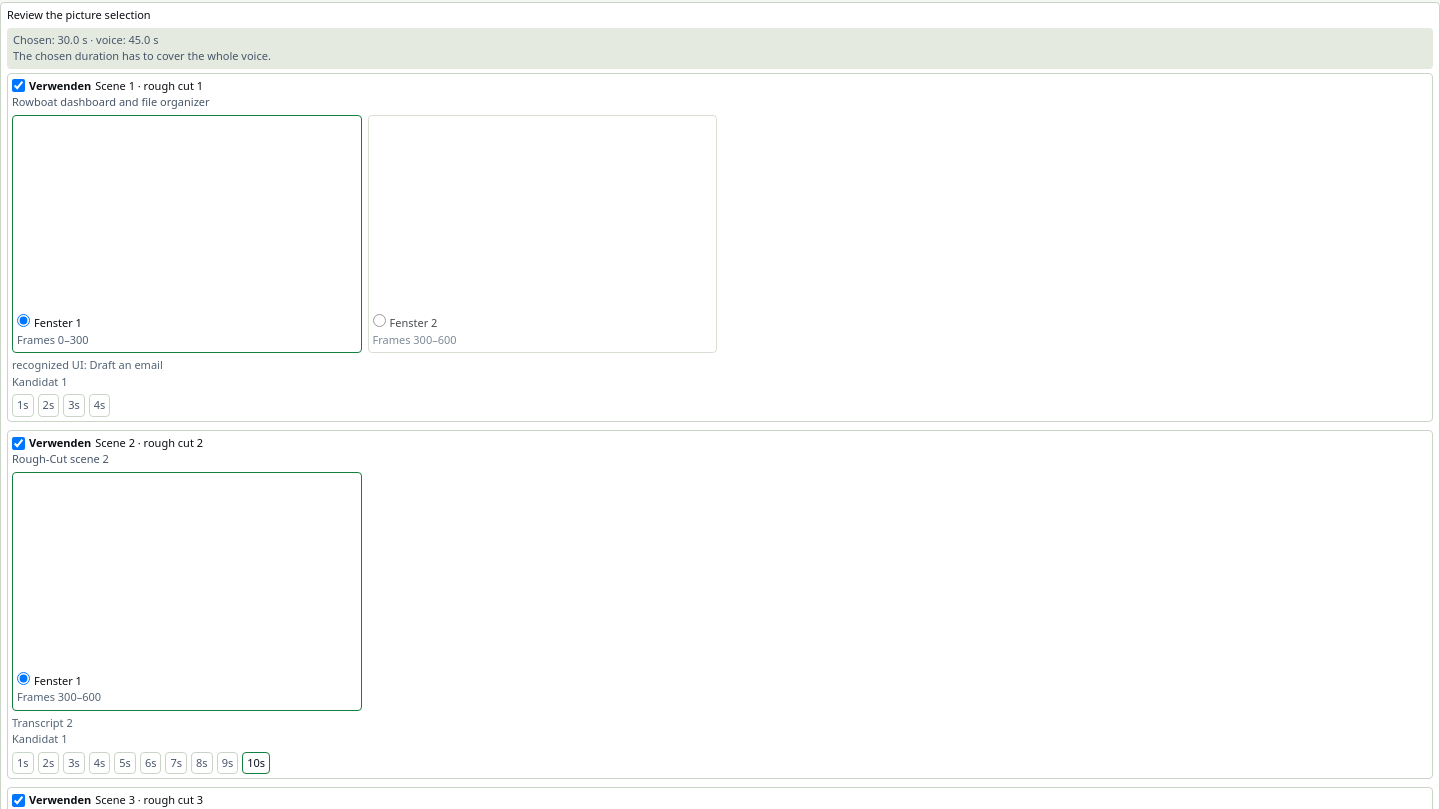
VisualSelectionCard › bounds duration buttons by the selected candidate capacity
The width and height of the screenshot is (1440, 809).
Expected: the button named "Scene 1: 4 seconds" is shown, [89,394,110,417]
Step 1. Click the radio button with test id "visual-scene-candidate-scene-0-candidate-1" → (379, 321), box [372,314,386,328]
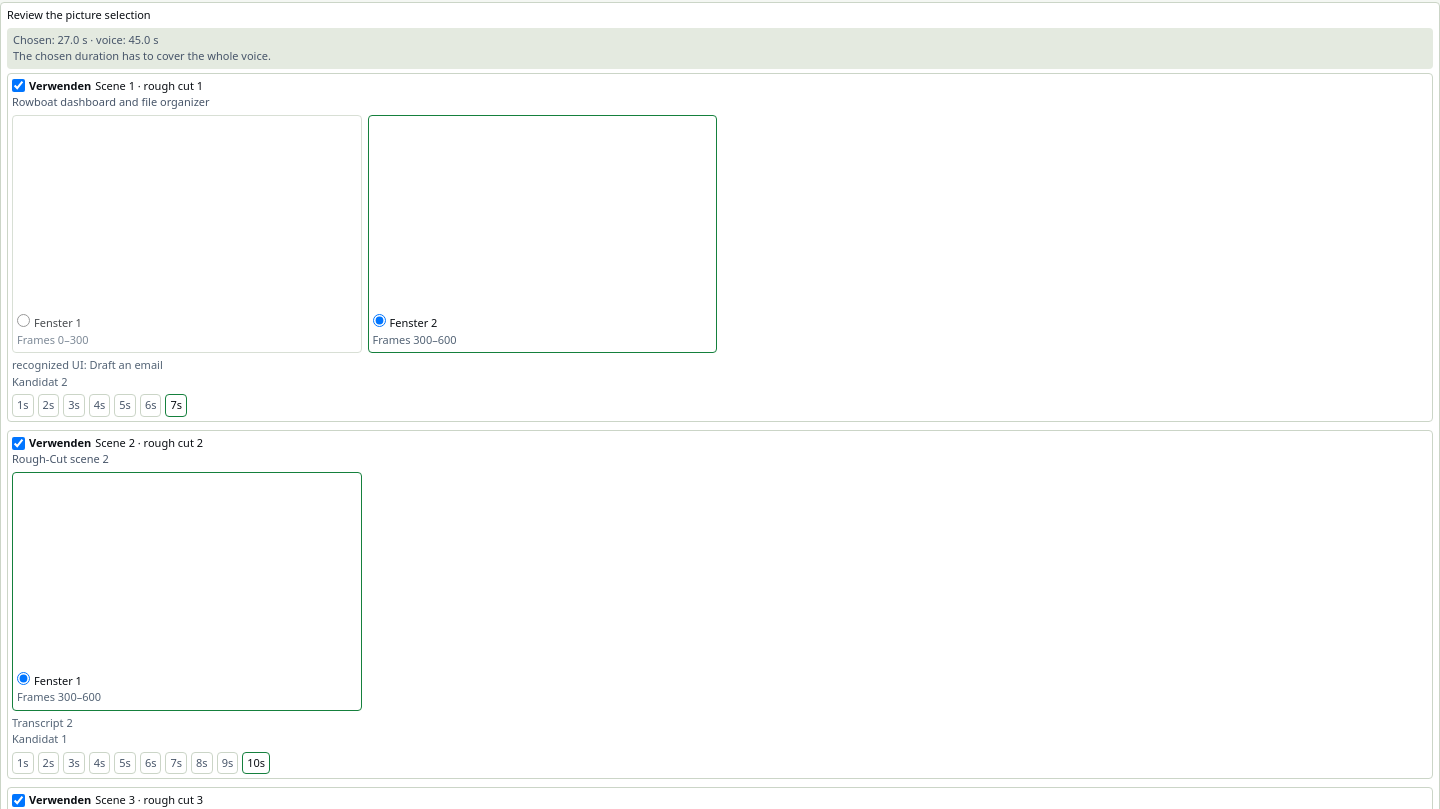
Now the button named "Scene 1: 7 seconds" is shown, box [166,394,187,417]
